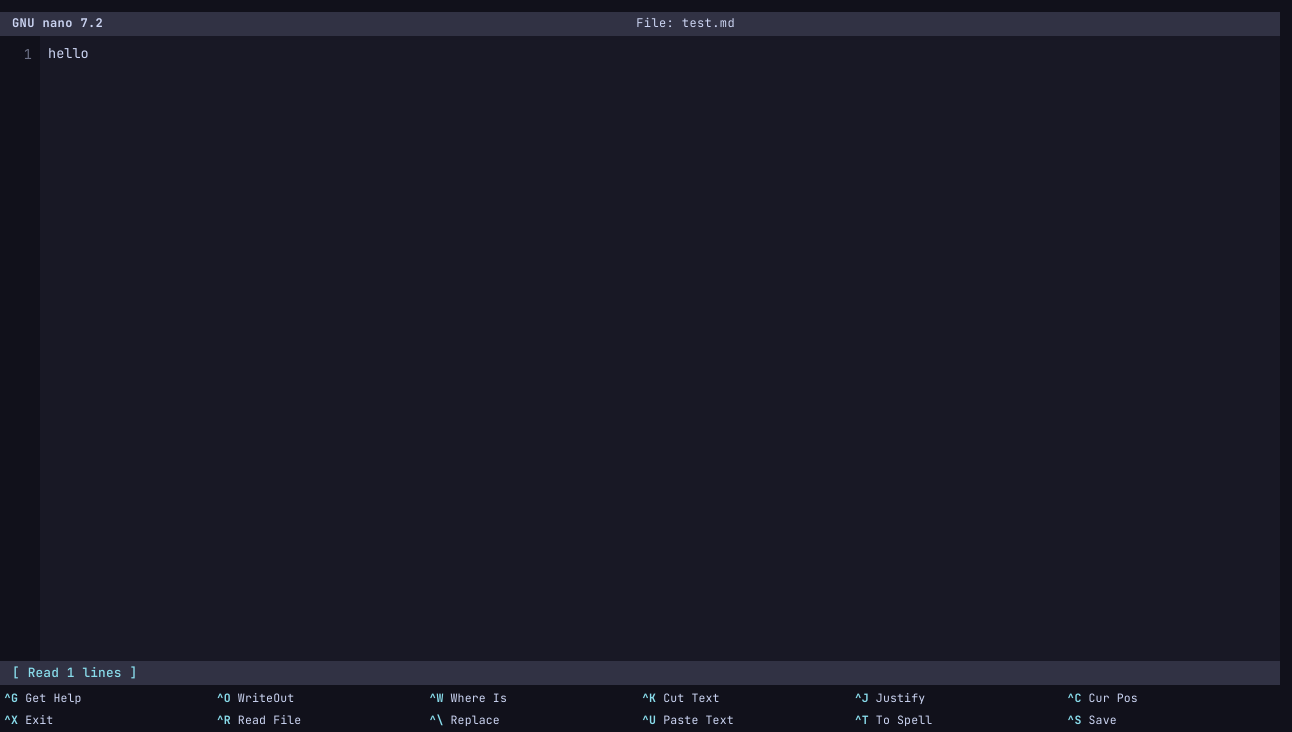
NanoEditor › prompts to save on Ctrl+X if modified, and handles Y/N/Ctrl+C and ignored keys
The width and height of the screenshot is (1292, 732).
Later steps or results of the test are not shown.
Replace the text in the text box with "hello modified" at (660, 349), box x1=40 y1=36 x2=1280 y2=661
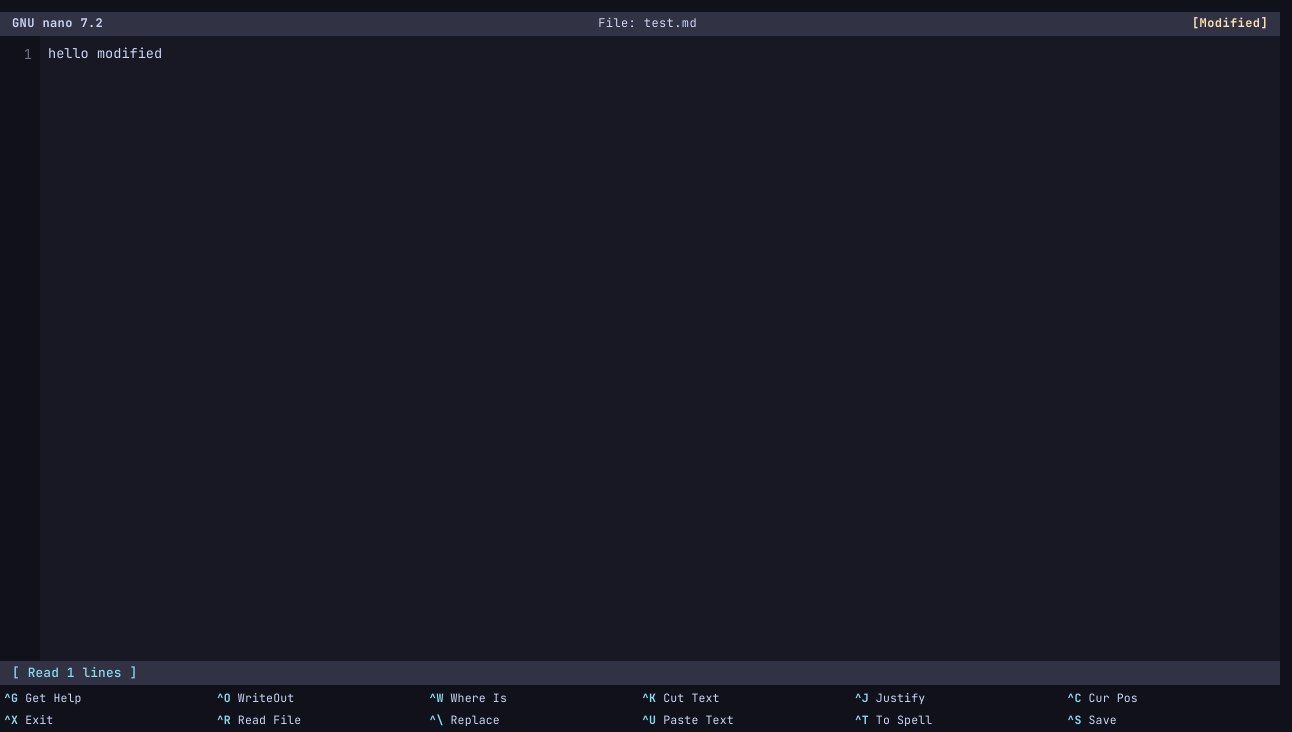
Press x in the text box
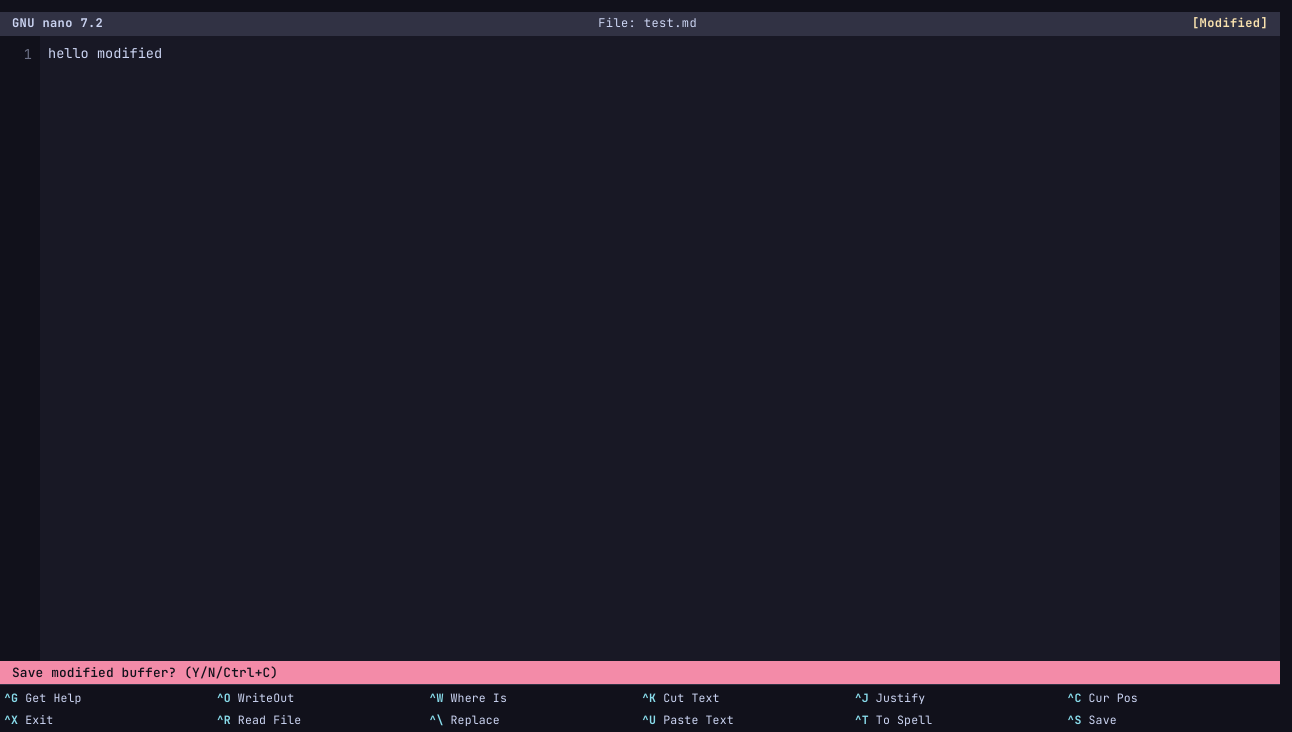
Result: the text "Save modified buffer? (Y/N/Ctrl+C)" is shown at x1=0 y1=661 x2=1280 y2=684
Press z in the text box
Result: the text "Save modified buffer? (Y/N/Ctrl+C)" is shown at x1=0 y1=661 x2=1280 y2=684
